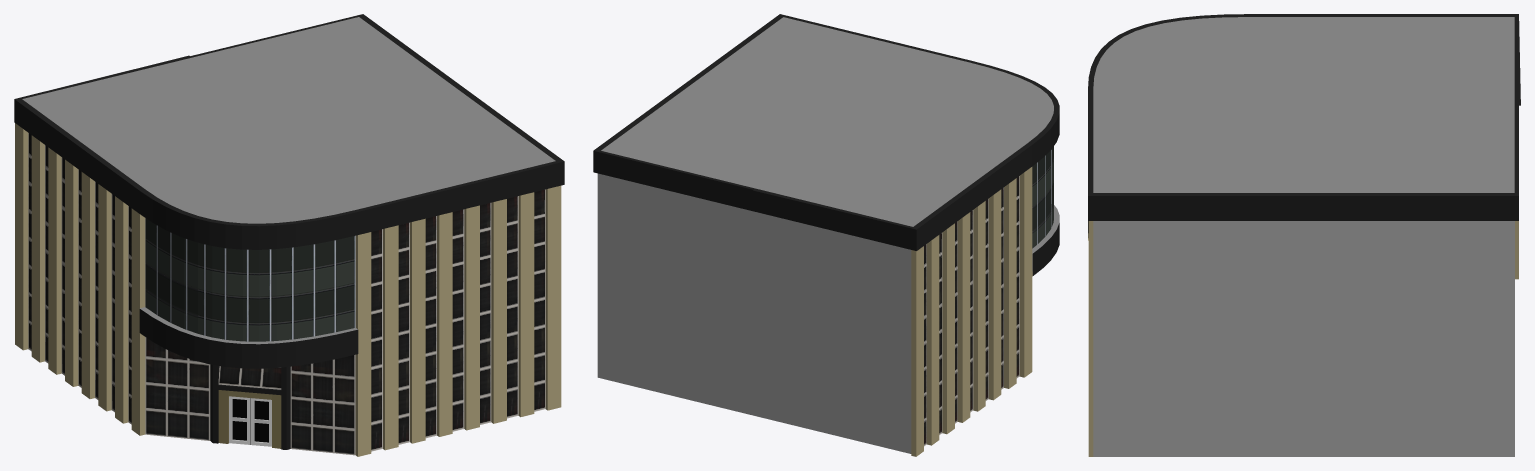
3 renders of one model, left to right at view 1: azimuth 30°, elevation 25°; view 2: azimuth 150°, elevation 25°; view 3: azimuth 270°, elevation 25°, orthographic. The views are drawn at different scales.
Parts seen in each view (by area): view 1: EB-022; view 2: EB-022; view 3: EB-022.
Boxes of the visible parts, bbox=[...] form: EB-022: bbox=[14, 14, 564, 456]; EB-022: bbox=[593, 14, 1059, 456]; EB-022: bbox=[1088, 14, 1520, 456].
Size of what is drawn, in the model's own units: 19.84 by 13.37 by 19.93.
